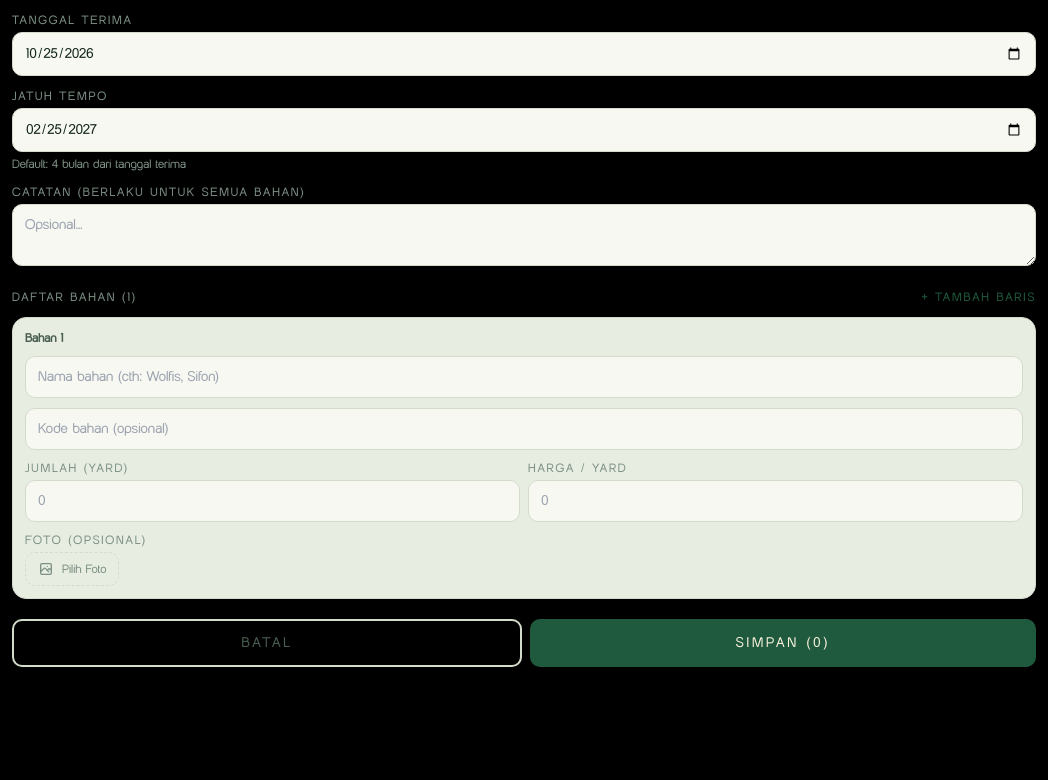
Test case: PembelianBulkForm › shows grand total when jumlah + harga entered
The width and height of the screenshot is (1048, 780).
Type "Wolfis" into the field with placeholder "Nama bahan (cth: Wolfis, Sifon)" at (524, 377), box [25,356,1023,398]
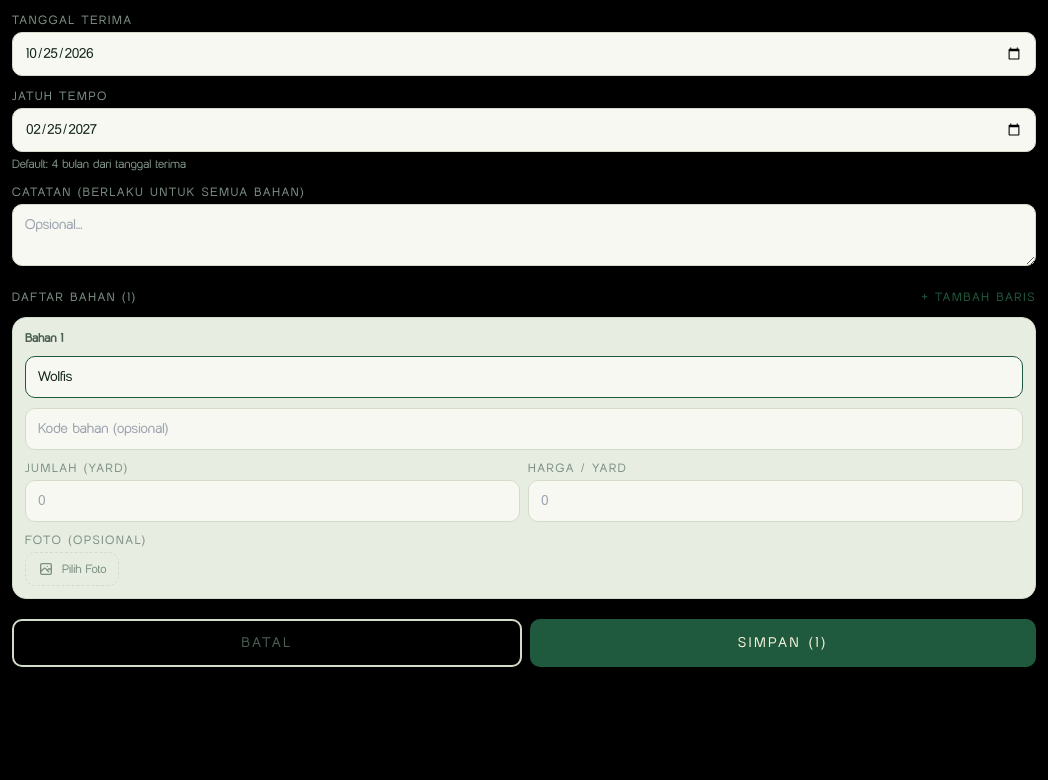
Type "10" into the number field with placeholder "0" below "Jumlah (yard)" at (272, 501), box [25,480,520,522]
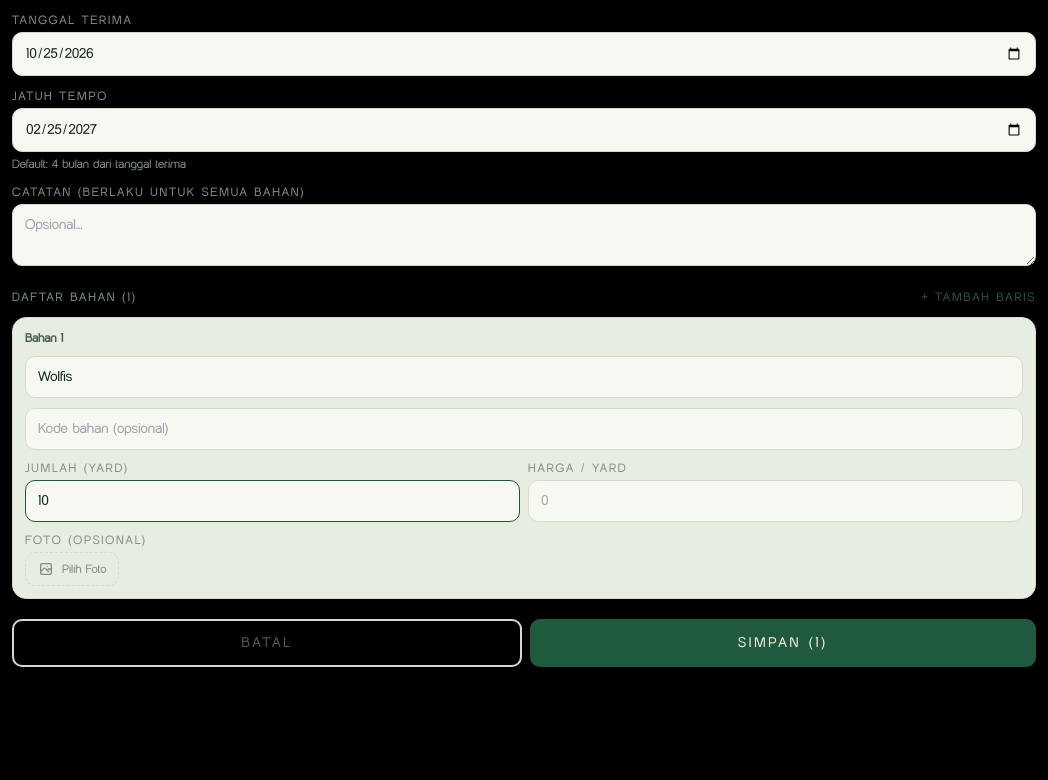
Type "15000" into the number field with placeholder "0" at (776, 501), box [528,480,1023,522]
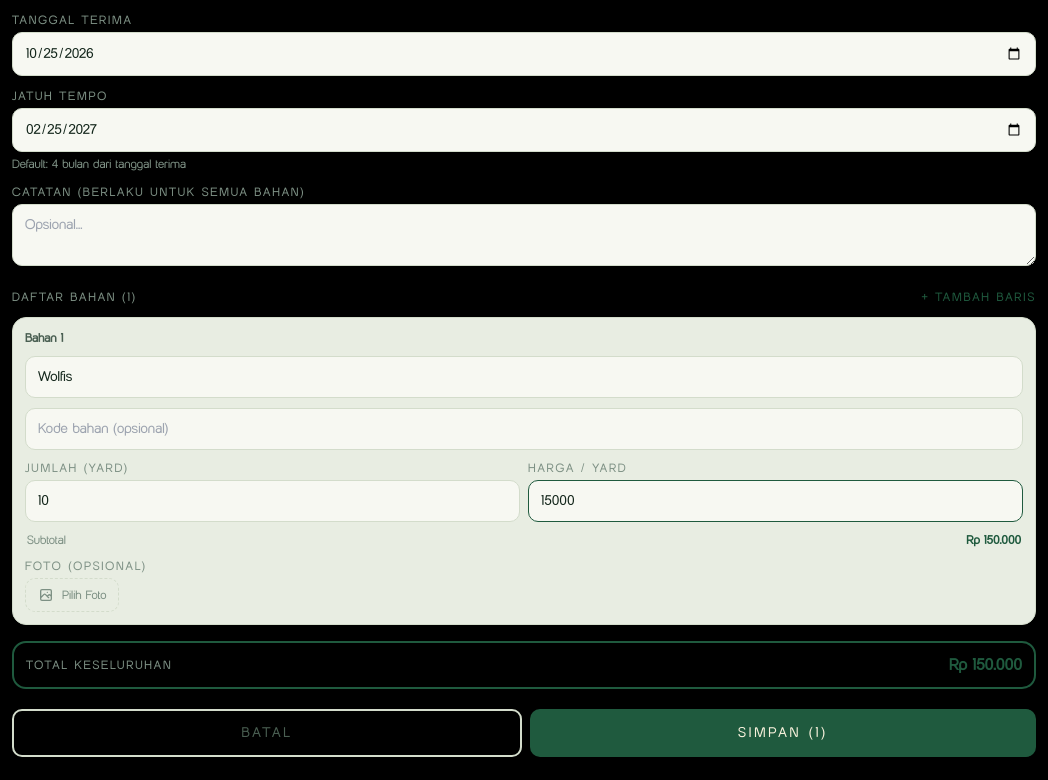
Now the text "Total Keseluruhan" is shown, box [26,657,172,673]
